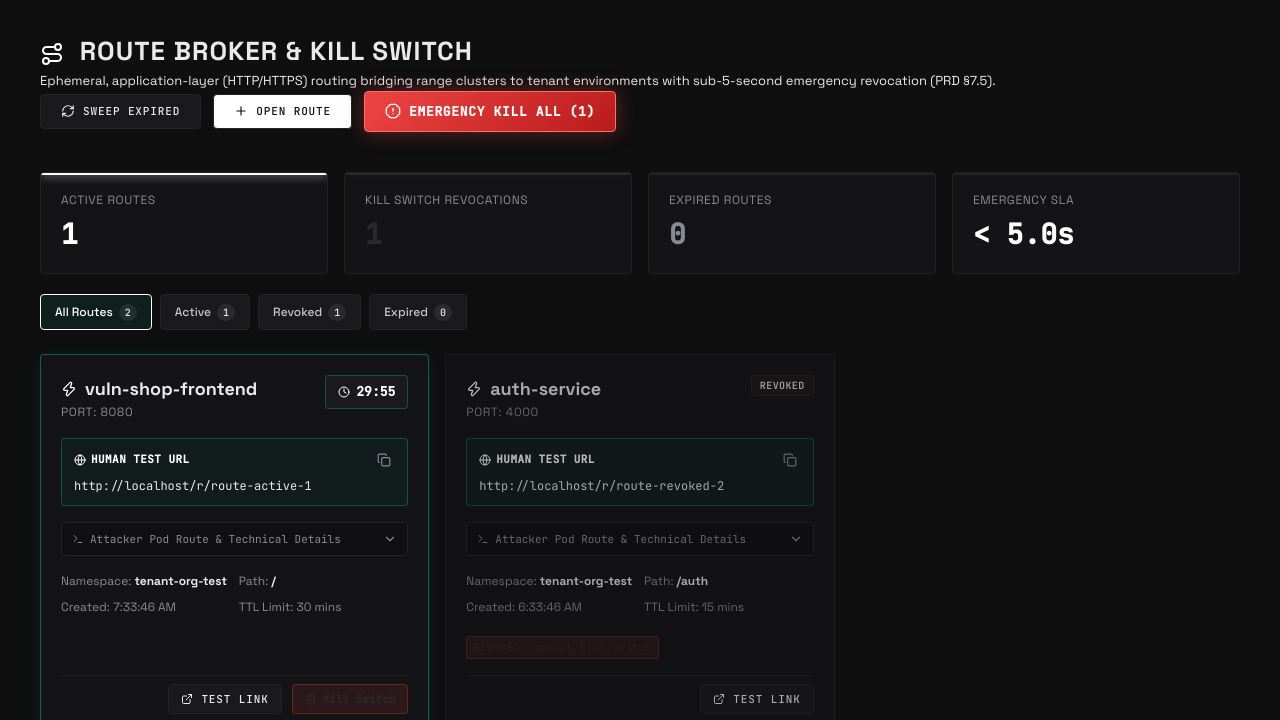
RouteBrokerPage (Phase 8 — Route Broker & Kill Switch) › renders Human Test URL and toggles collapsible Attacker Pod Technical Details
Expected: the text "vuln-shop-frontend" is shown, [85, 375, 257, 402]
Expected: the text "Human Test URL" below "8080" is shown, [91, 452, 190, 466]
// Expand technical details
Click the button "Attacker Pod Route & Technical Details" below "http://localhost/r/route-active-1": coordinates (235, 539) [62, 522, 407, 555]
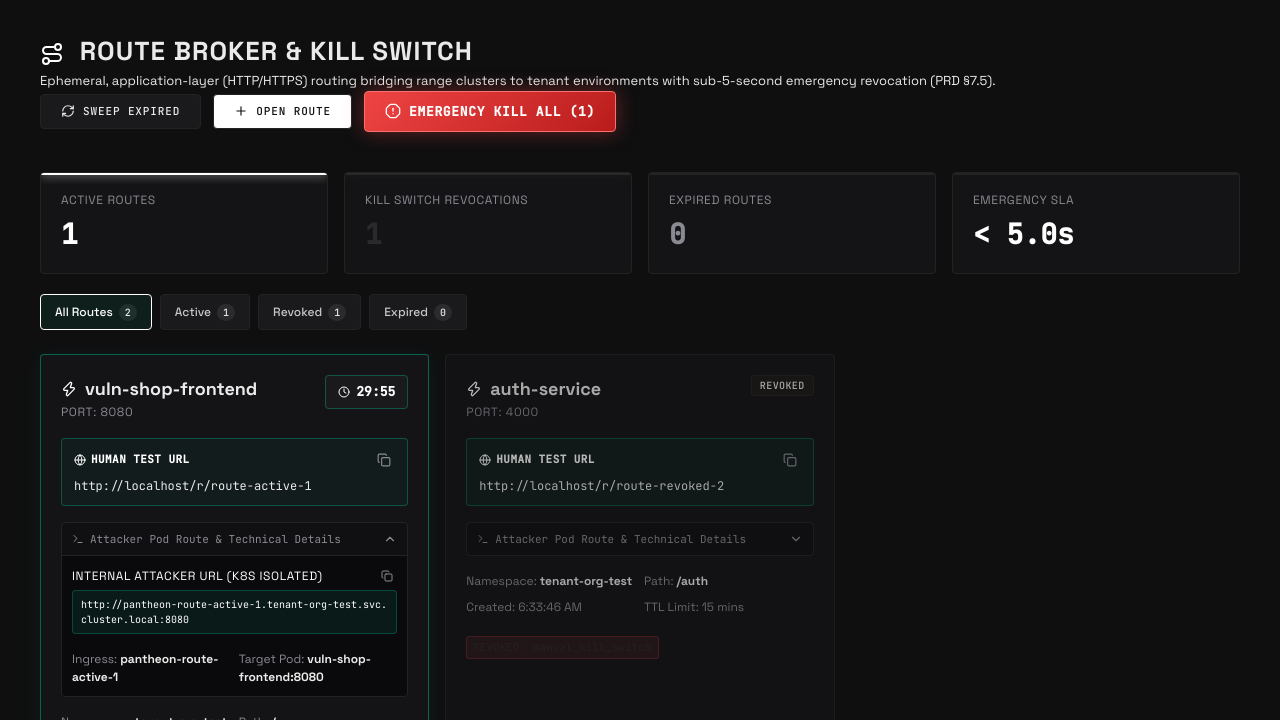
Result: the text "Internal Attacker URL (K8s Isolated)" is shown at [72, 567, 323, 585]
